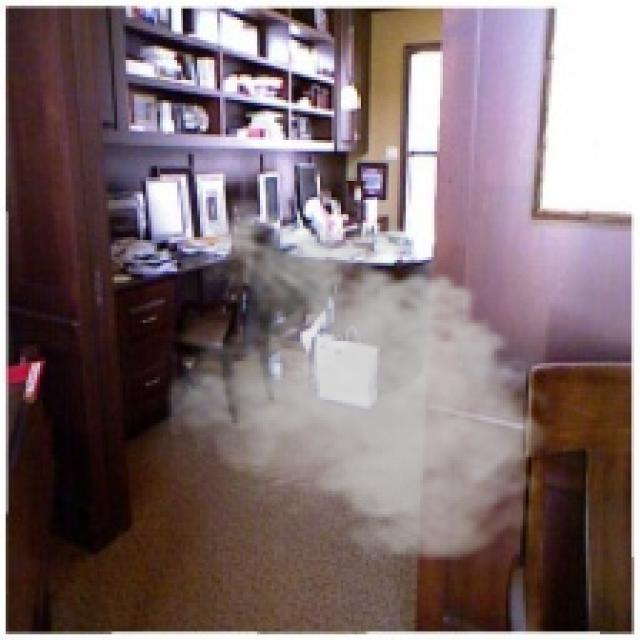Smoke: (165, 200, 560, 569)
